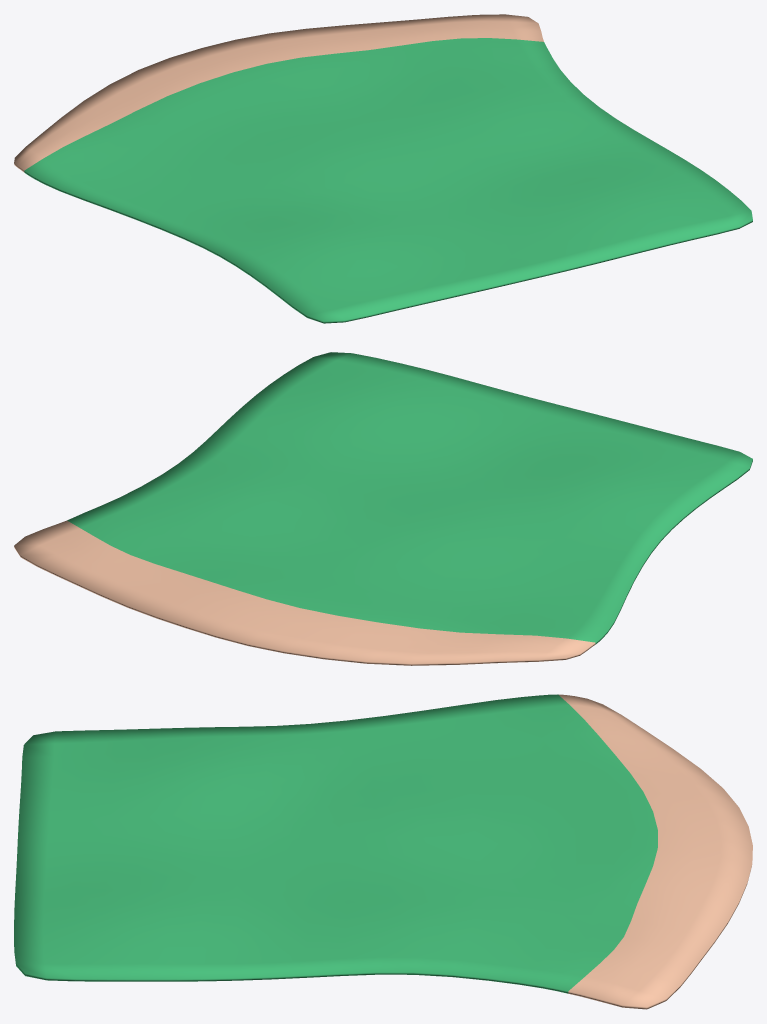
The picture shows the model from 3 angles, top to bottom: view 1: azimuth 30°, elevation 25°; view 2: azimuth 150°, elevation 25°; view 3: azimuth 270°, elevation 25°; orthographic projection. The views are drawn at different scales.
Visible parts, largest first — view 1: Plane; view 2: Plane; view 3: Plane.
Part boxes in pixels (x1,y1,x2,y2): Plane: (14, 14, 752, 323); Plane: (14, 352, 752, 665); Plane: (14, 694, 752, 1009).
Bounding box in the file's own units: 49.98 × 1.42 × 51.29.
